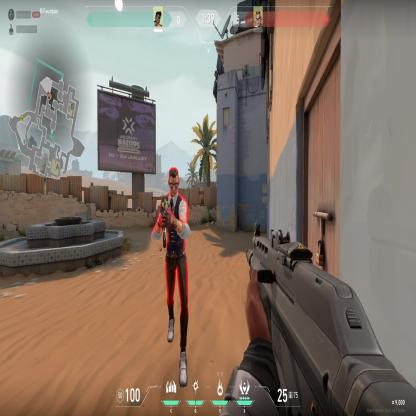enemy: (150, 166, 192, 392)
